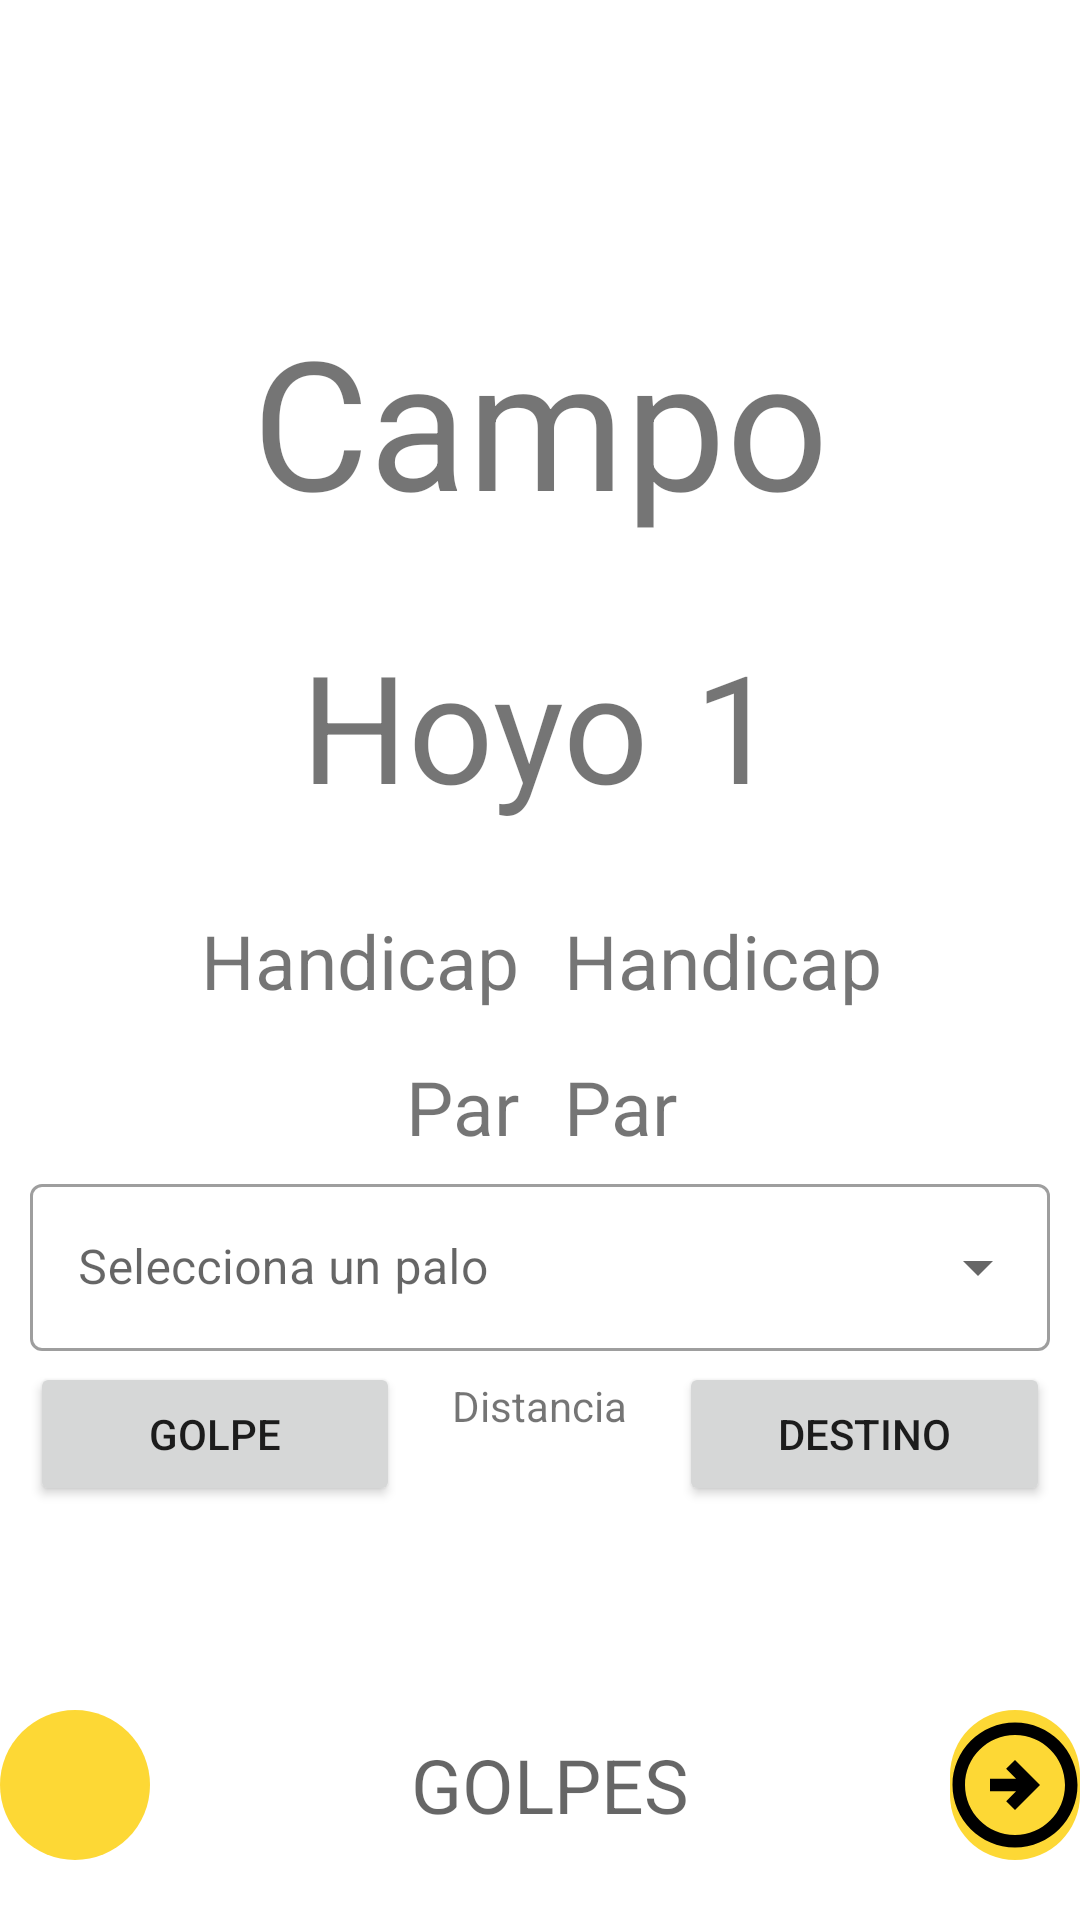

Point at icon controls on the screen. Image size 1080px x 1920px, points as point (x, y).
arrow circle right: point (1015, 1785)
